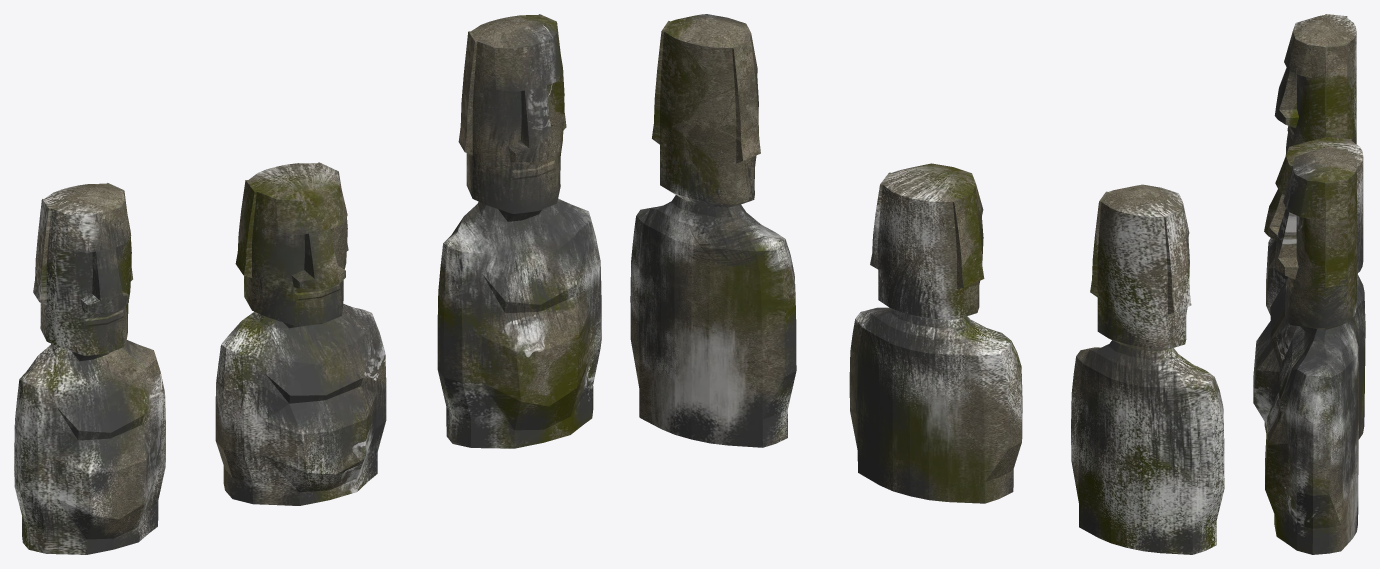
The model's file is stone-head-low-poly-of-easter-island.glb.
The picture shows the model from 3 angles, left to right: view 1: azimuth 30°, elevation 25°; view 2: azimuth 150°, elevation 25°; view 3: azimuth 270°, elevation 25°; orthographic projection. The views are drawn at different scales.
Visible parts, largest first — view 1: defaultMaterial; view 2: defaultMaterial; view 3: defaultMaterial.
Boxes of the visible parts, left/top/right/bottom form: defaultMaterial: left=14, top=14, right=601, bottom=554; defaultMaterial: left=630, top=14, right=1224, bottom=554; defaultMaterial: left=1253, top=14, right=1365, bottom=554.
Bounding box in the file's own units: 11.8 × 7.78 × 2.15.
1 material, 1 textured.
